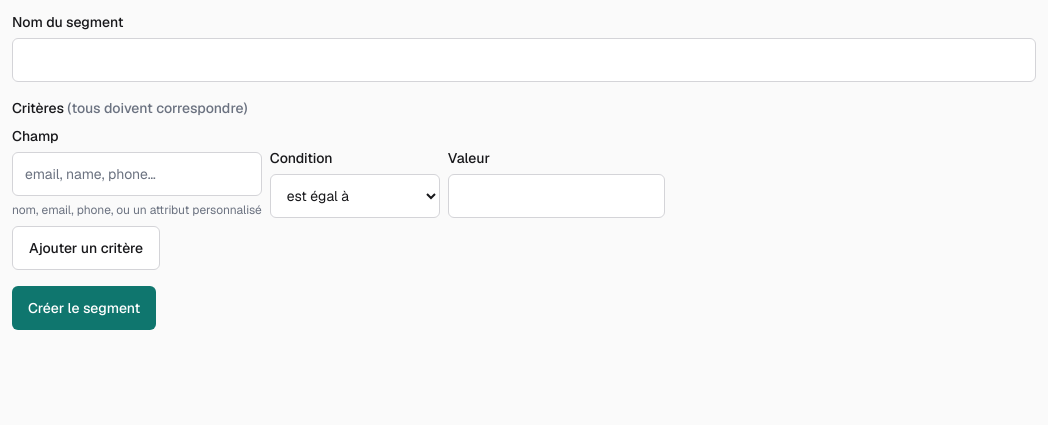
Scenario: ContactSegmentForm › ajoute et retire des criteres
What coordinates should you click on to do the following:
click the button "Ajouter un critère"
I would click on:
 (86, 248)
Its box is [12,226,160,270].
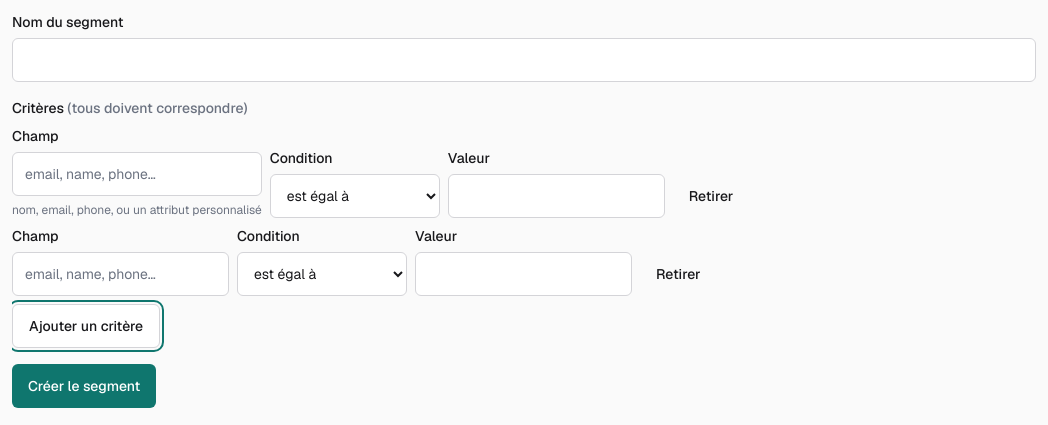
expect the number of fields labelled "Champ" is 2: met, box [12,152,262,196]; [12,252,229,296]
What coordinates should you click on to do the following:
click the 1st button "Retirer"
I would click on:
 (711, 196)
Its box is [673,174,749,218].
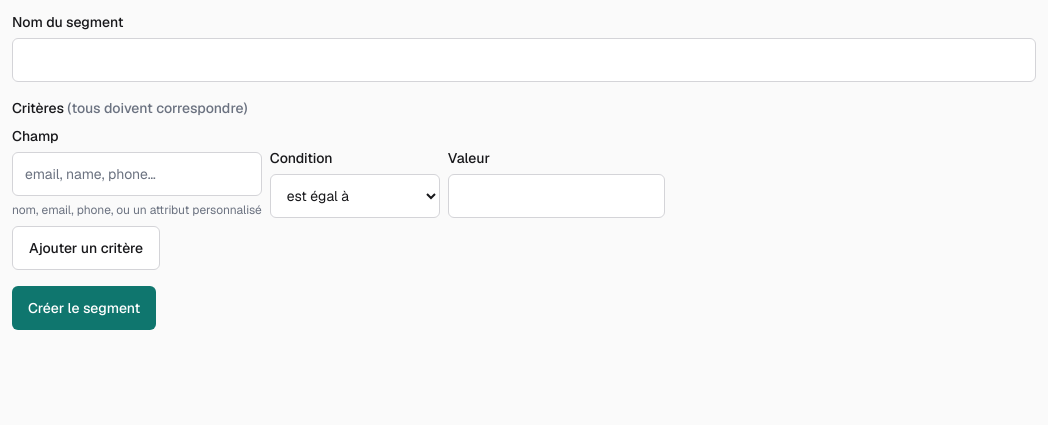
expect the number of fields labelled "Champ" is 1: met, box [12,152,262,196]
